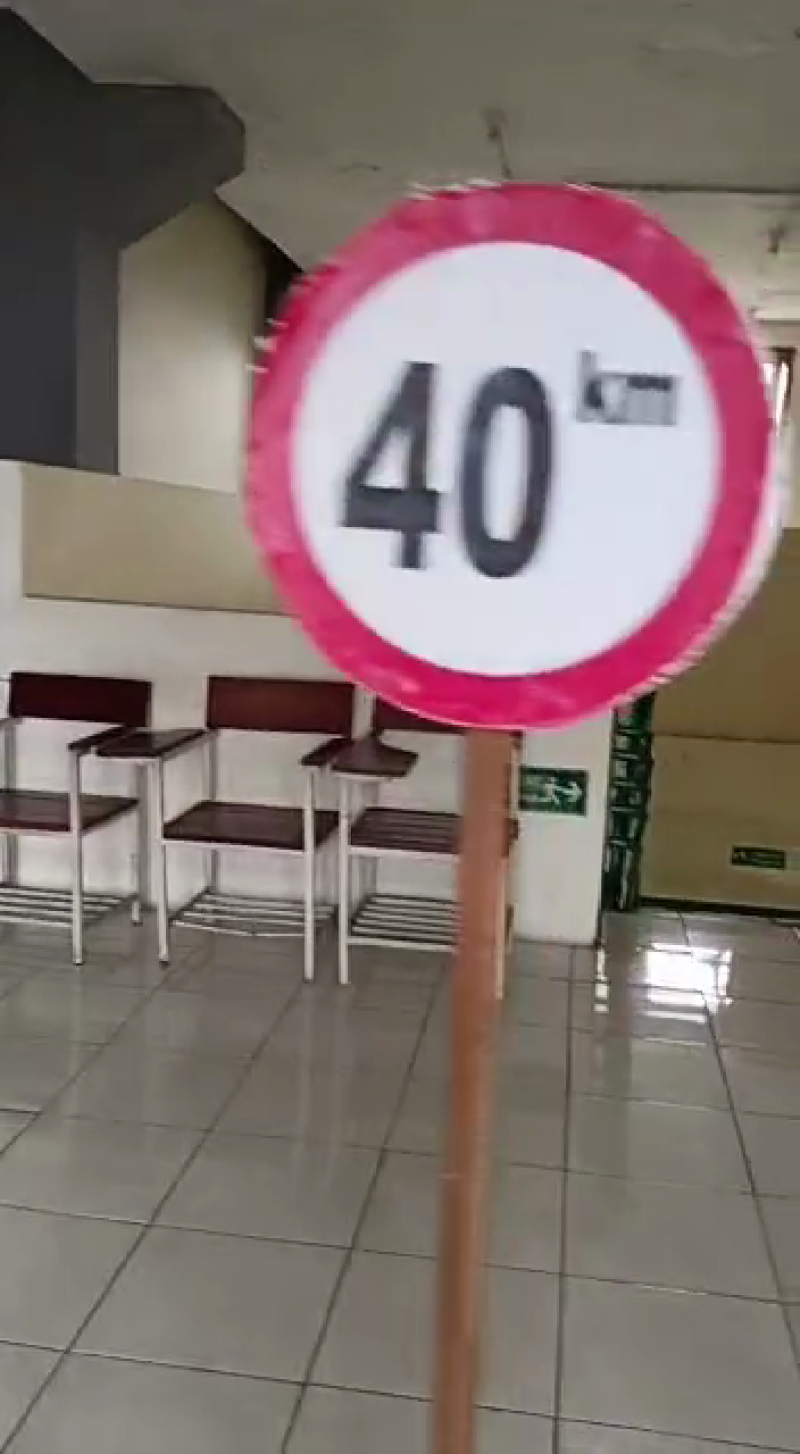batas maksimal 40kmperjam: (242, 173, 776, 729)
